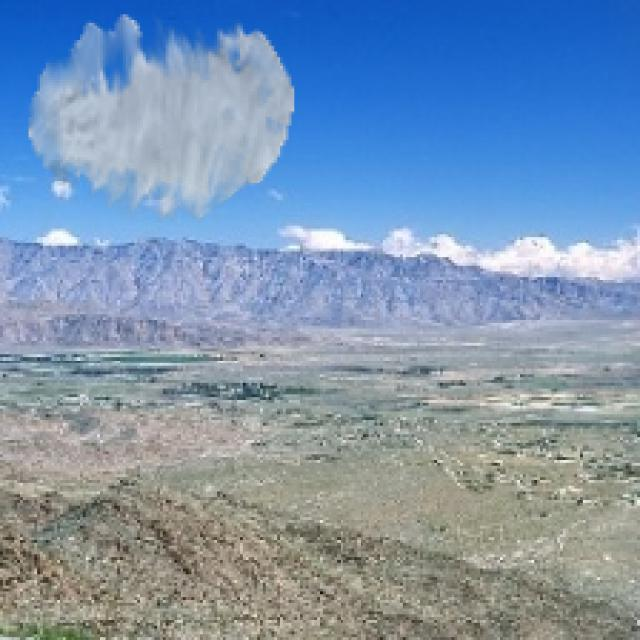smoke: (29, 14, 294, 223)
